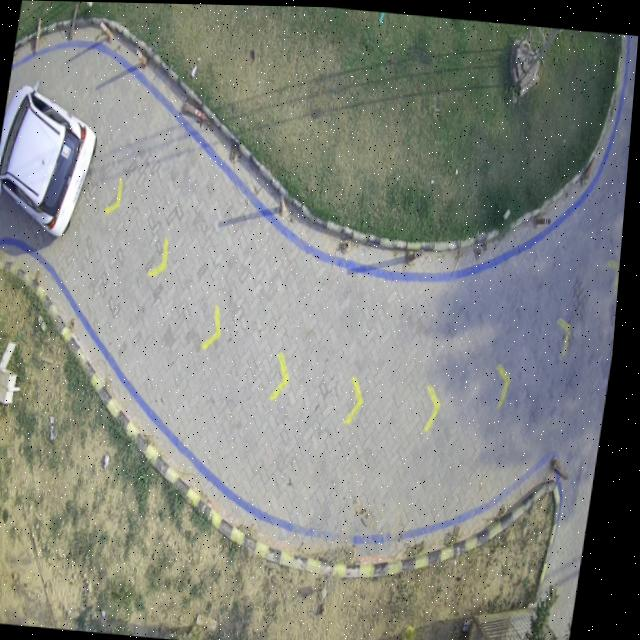car: (1, 83, 97, 239)
